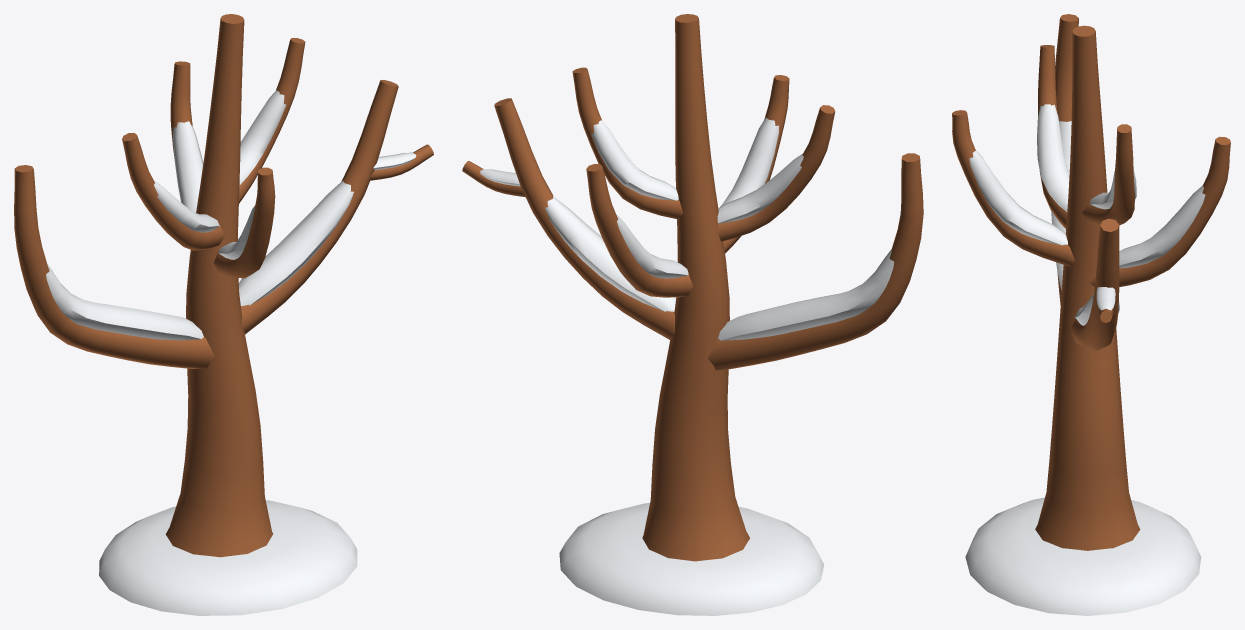
File: SnowyBareTree.glb
The picture shows the model from 3 angles, left to right: view 1: azimuth 30°, elevation 25°; view 2: azimuth 150°, elevation 25°; view 3: azimuth 270°, elevation 25°; orthographic projection. The views are drawn at different scales.
Visible parts, largest first — view 1: SnowyBareTree; view 2: SnowyBareTree; view 3: SnowyBareTree.
Part boxes in pixels (x1,y1,x2,y2): SnowyBareTree: (14, 14, 433, 615); SnowyBareTree: (462, 14, 923, 615); SnowyBareTree: (952, 14, 1230, 615).
Size of the model in its own units: 13.47 by 16.11 by 7.62.
Materials: 1 (1 with a texture image).
